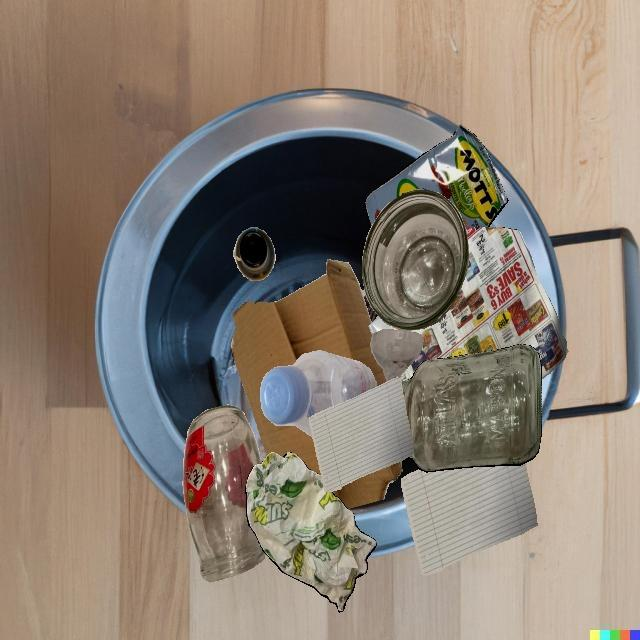cardboard: (231, 259, 386, 476)
glass: (401, 344, 542, 472), (362, 189, 469, 331), (183, 405, 265, 582), (370, 330, 423, 382), (234, 228, 275, 281), (361, 290, 378, 323)
paper: (399, 227, 568, 382), (245, 452, 377, 612), (401, 463, 537, 575), (309, 377, 414, 492), (369, 315, 390, 335)
plastic: (260, 350, 376, 437)
trash: (364, 124, 508, 228)
